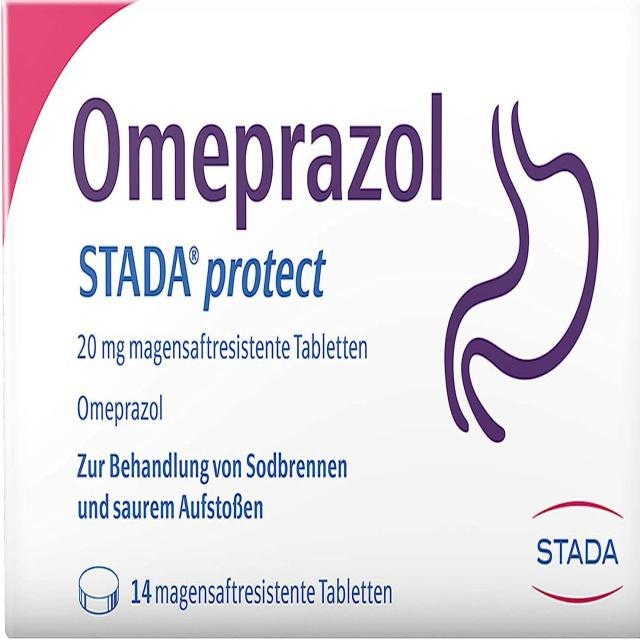drug-name: (68, 89, 460, 240)
